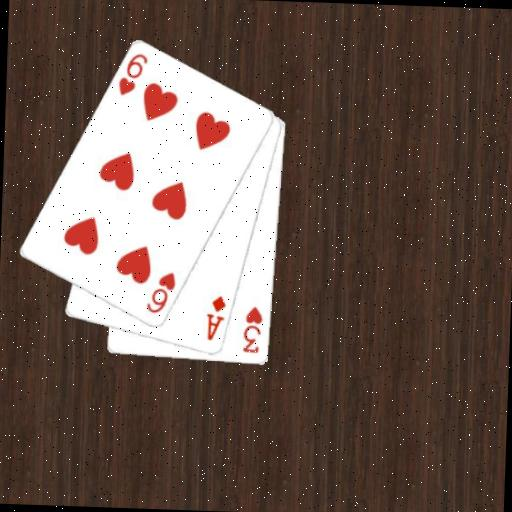3H: (239, 304, 264, 355)
6H: (115, 49, 150, 98), (142, 268, 177, 316)
AD: (203, 292, 228, 343)
